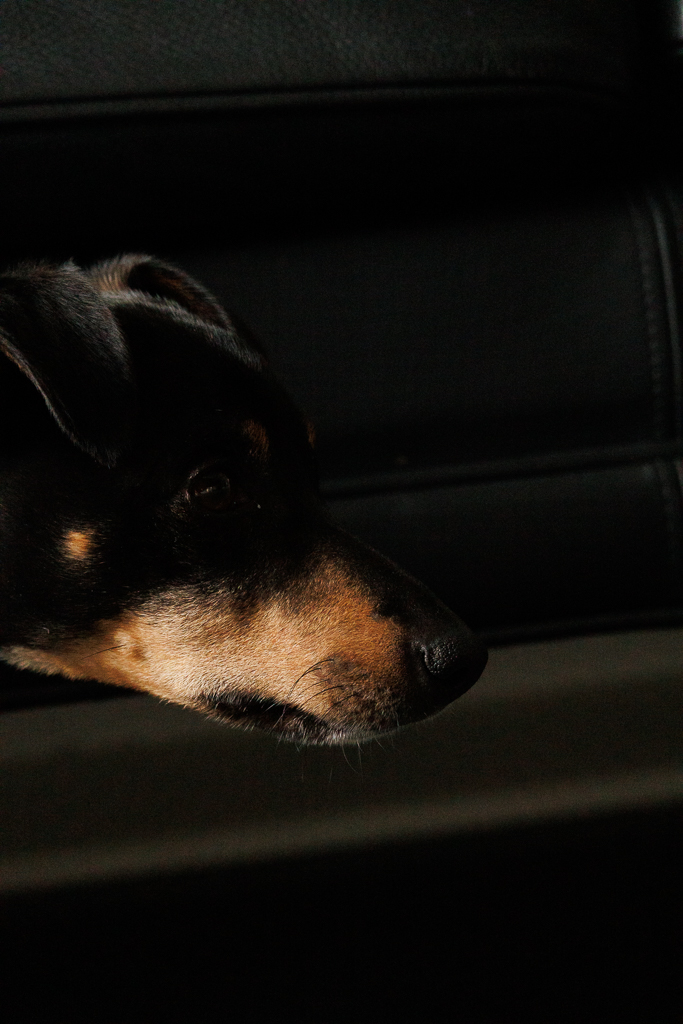Dog: (0, 245, 512, 773)
